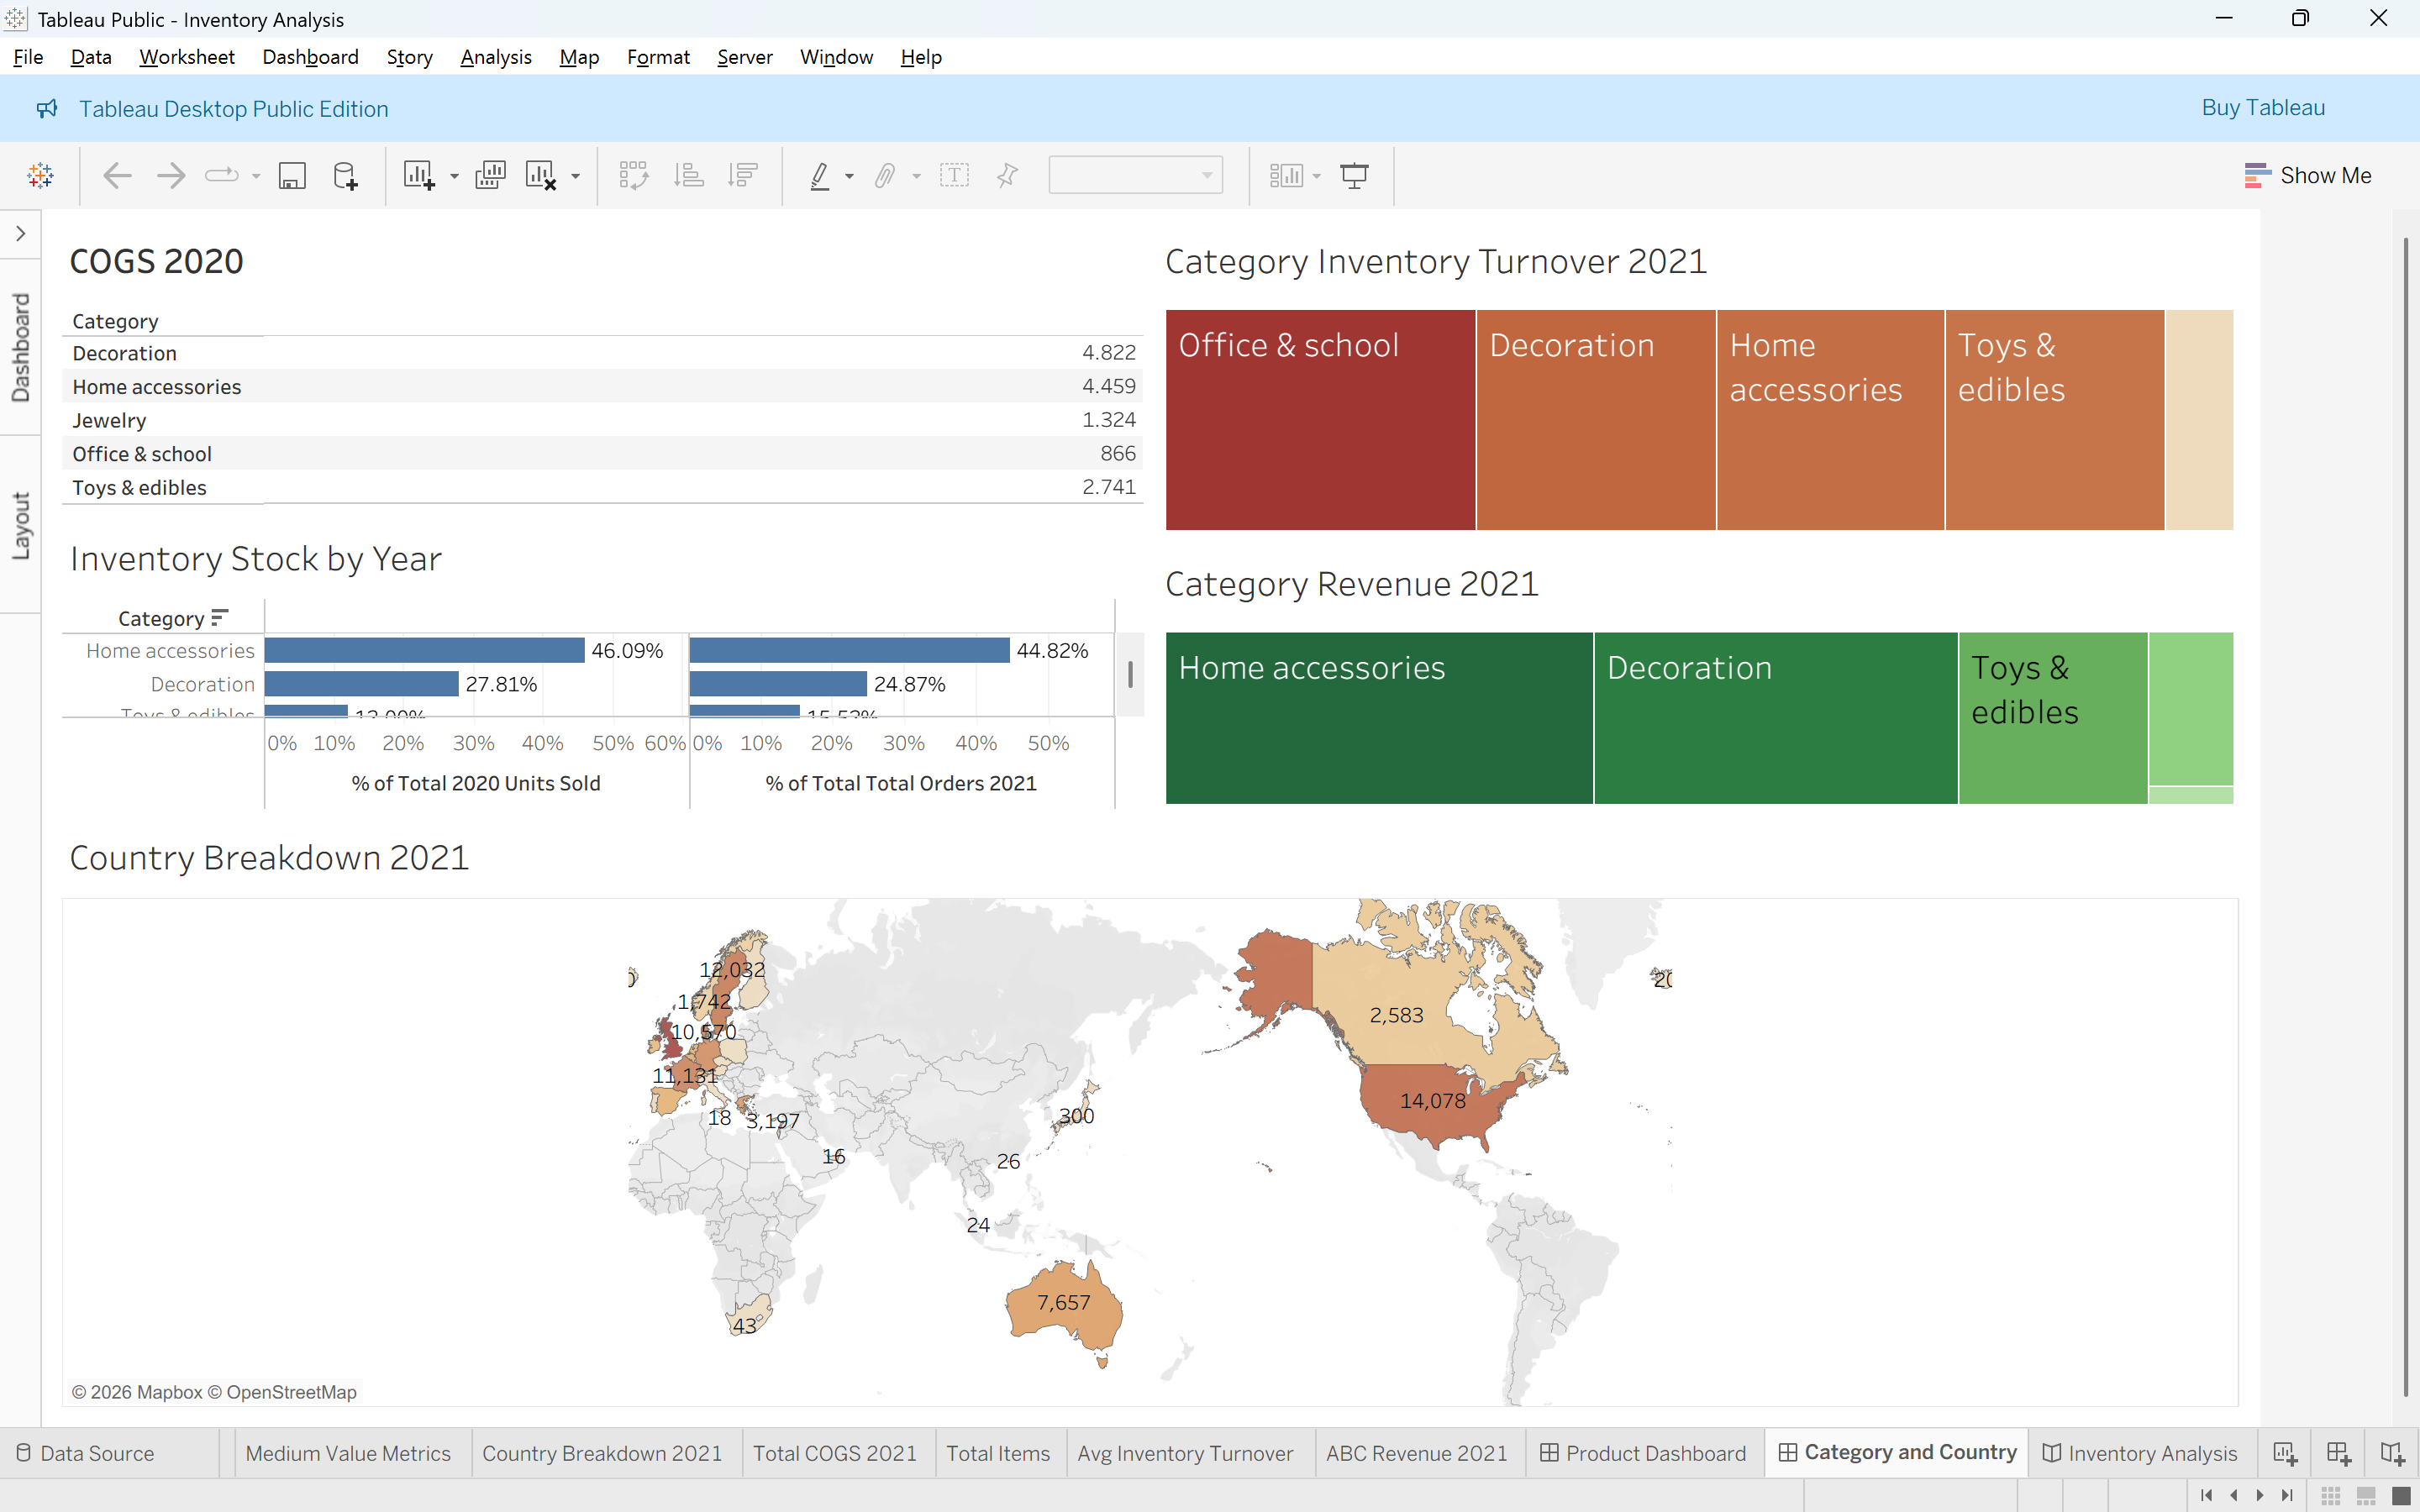

What the dashboard file says about the page in this screenshot:
{"tool":"tableau","page":{"name":"Category and Country","canvas":[1000,1000],"units":"permille","ordinal":0},"visuals":[{"type":"worksheet","title":"COGS 2020","mark":"Automatic","rows":["Category"],"box":[6.1,11,493.9,244.5]},{"type":"worksheet","title":"Category Inventory Turnover 2021","mark":"Automatic","box":[500,11,493.9,264.2]},{"type":"worksheet","title":"Inventory Stock by Year","mark":"Automatic","rows":["Category"],"cols":["2020_units_sold","Calculation_2017081393917956"],"box":[6.1,255.5,493.9,244.5]},{"type":"worksheet","title":"Category Revenue 2021","mark":"Automatic","box":[500,275.3,493.9,224.7]},{"type":"worksheet","title":"Country Breakdown 2021","mark":"Automatic","box":[6.1,500,987.9,489]}]}

Visuals, with their boxes on the dashboard's canvas, which has no fixed pixel size, in thousandths of its width and height (x1, y1, x2, y2). These are canvas units, not pixel positions in the 2420x1512 screenshot, which may show the page scaled, cropped or inside an application window:
"COGS 2020" worksheet: region(6, 11, 500, 256)
"Category Inventory Turnover 2021" worksheet: region(500, 11, 994, 275)
"Inventory Stock by Year" worksheet: region(6, 256, 500, 500)
"Category Revenue 2021" worksheet: region(500, 275, 994, 500)
"Country Breakdown 2021" worksheet: region(6, 500, 994, 989)
